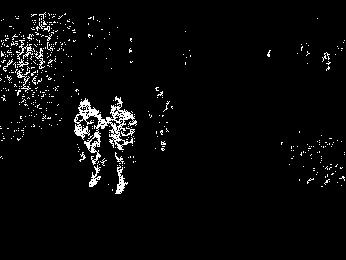person: (107, 95, 138, 194), (74, 99, 107, 187), (149, 85, 173, 157)
